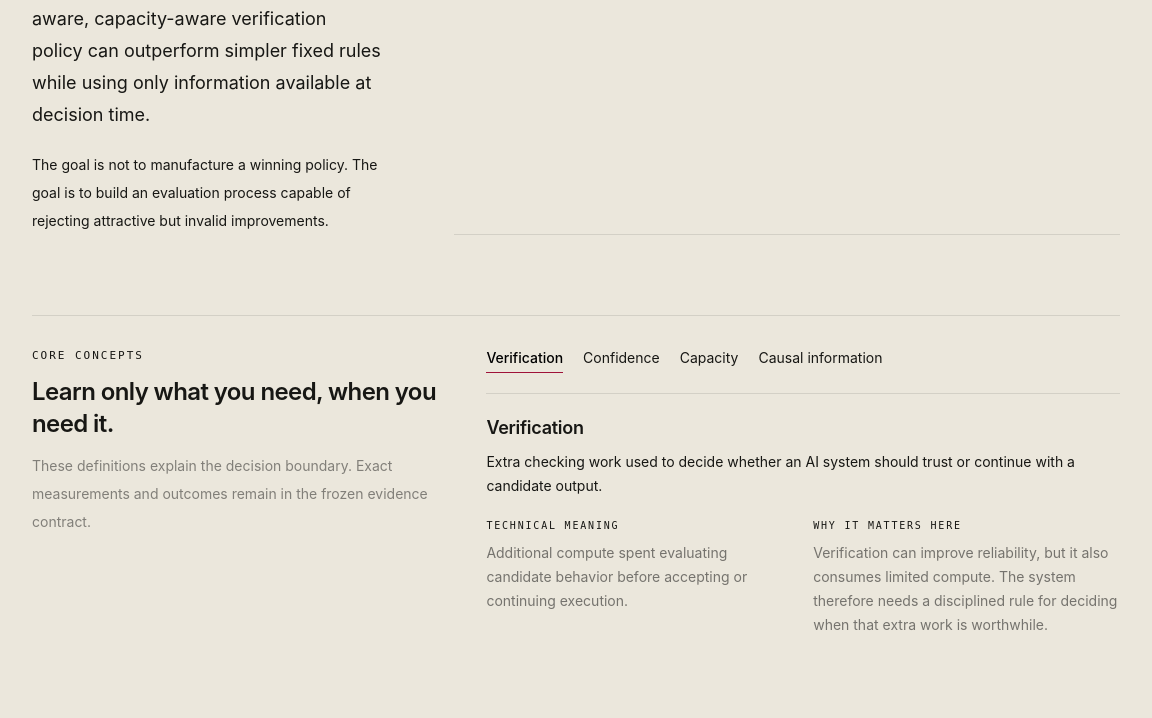
Test: UnderstandSystemSection › teaches the governed experiment without changing the evidence contract
(page scrolled)
Click the button "Causal information": point(820, 360) x1=758 y1=348 x2=882 y2=372
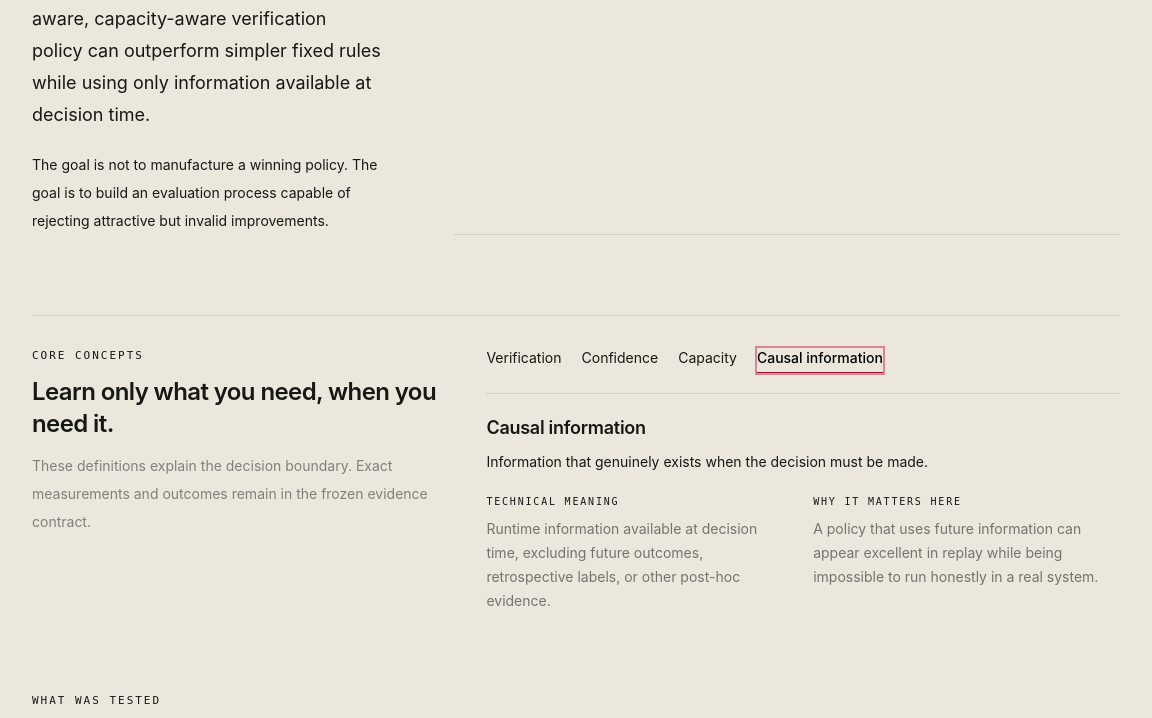
Expected: the text "Information that genuinely exists when the decision must be made." is shown, x1=486 y1=452 x2=928 y2=470
